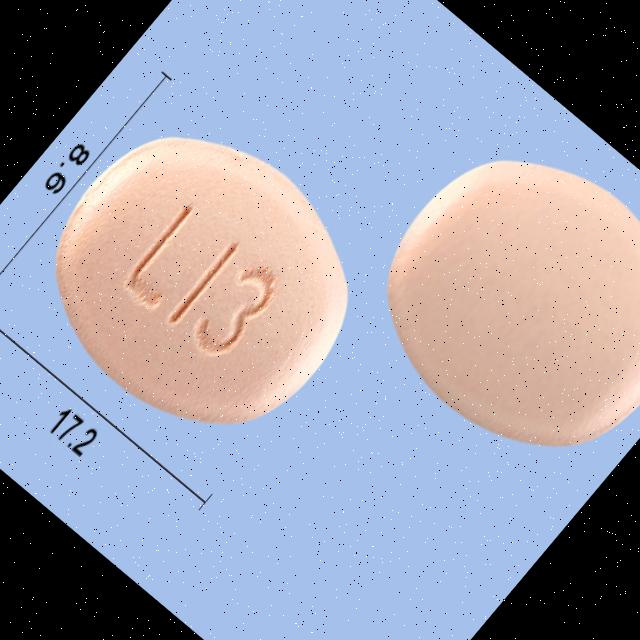Levoable: (4, 83, 400, 476)
